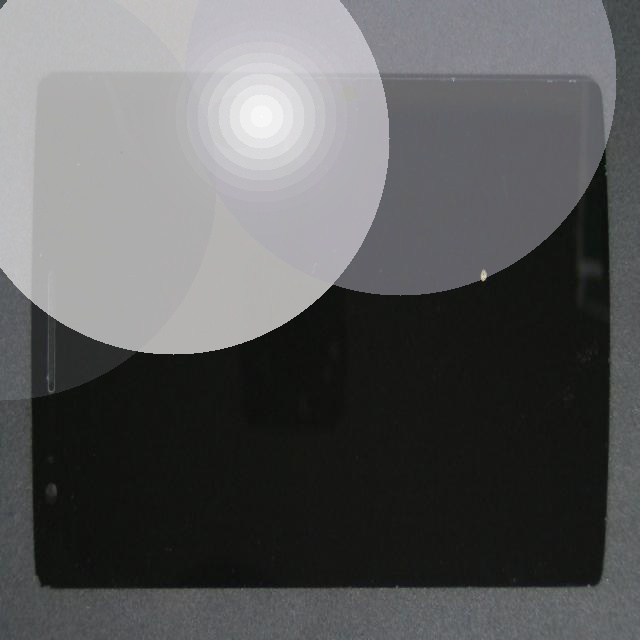stain: (258, 197, 640, 440)
